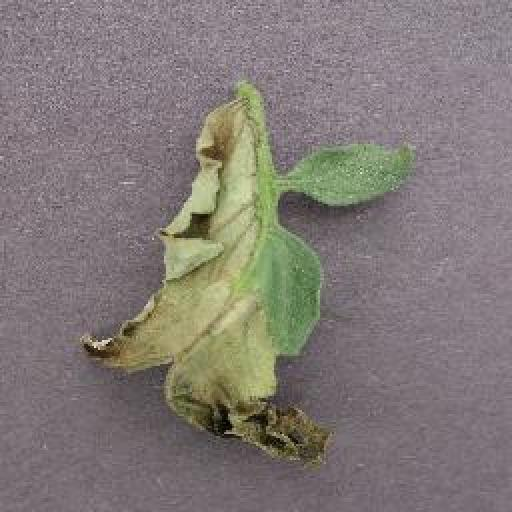Late Blight: (78, 96, 334, 468)
